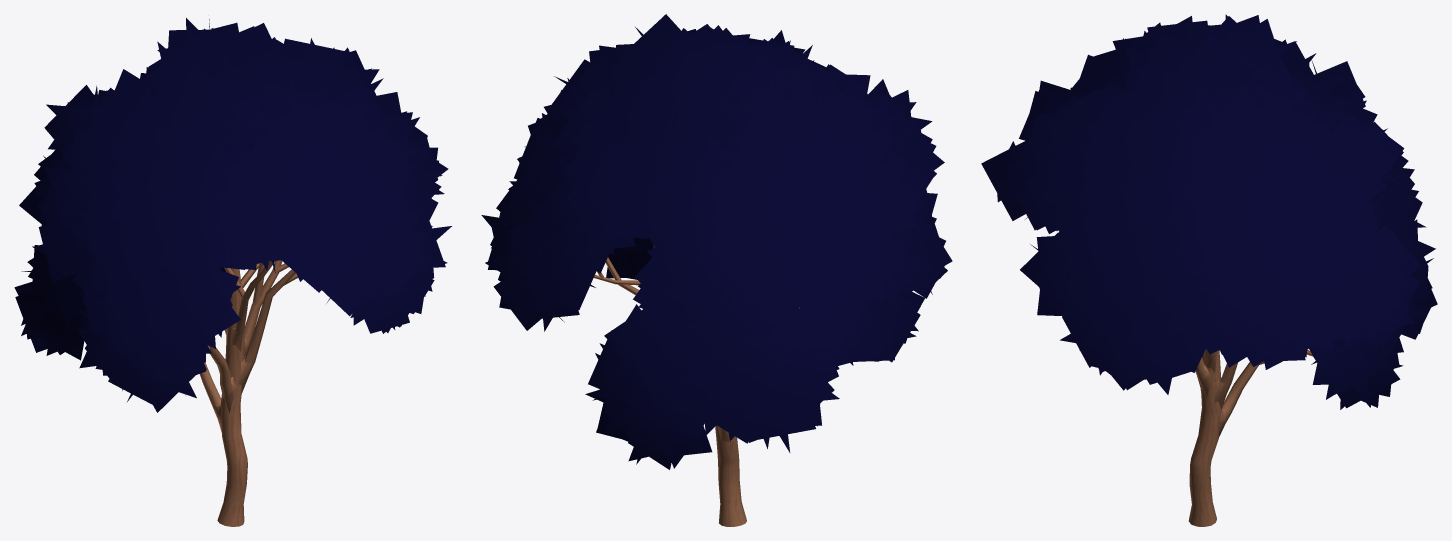
File: SM_OakTree_05.fbx
3 renders of one model, left to right at view 1: azimuth 30°, elevation 25°; view 2: azimuth 150°, elevation 25°; view 3: azimuth 270°, elevation 25°, orthographic. The views are drawn at different scales.
Visible parts, largest first — view 1: SM_OakTree_05_LOD0; view 2: SM_OakTree_05_LOD0; view 3: SM_OakTree_05_LOD0.
Boxes of the visible parts, x1,y1,x2,y2 form: SM_OakTree_05_LOD0: (14, 18, 451, 526); SM_OakTree_05_LOD0: (481, 14, 952, 526); SM_OakTree_05_LOD0: (981, 14, 1437, 526).
Size of what is drawn, in the model's own units: 597 by 750 by 622.
